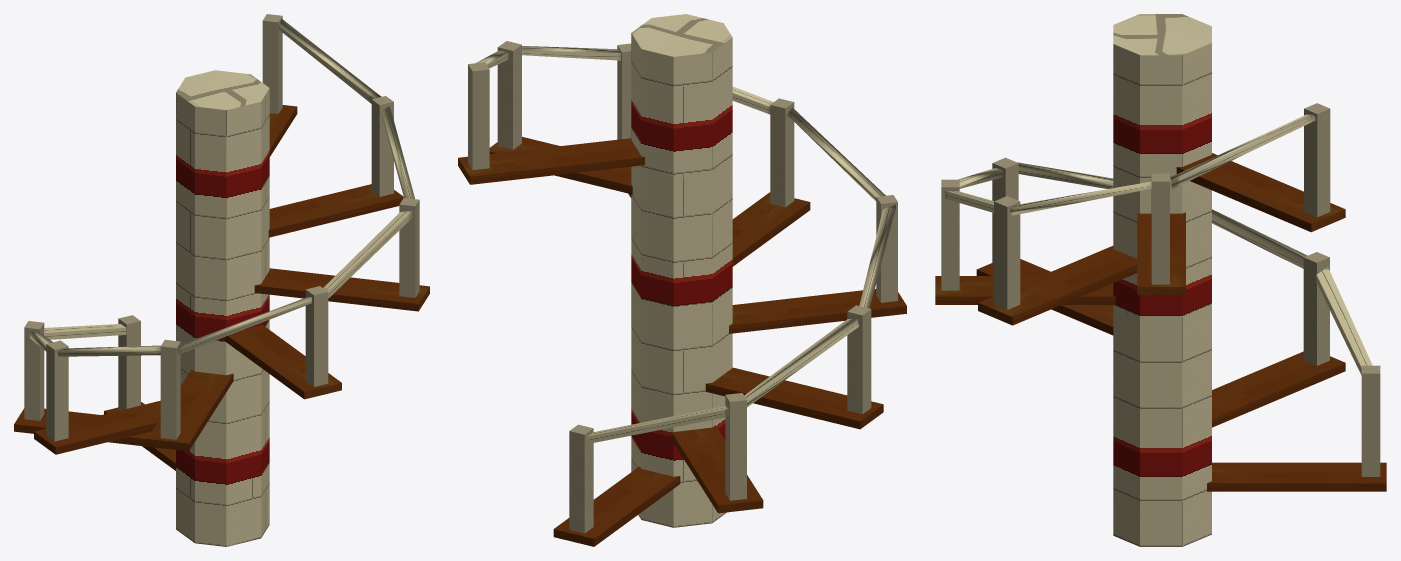
File: Theodosian_WIPStair1.glb
The picture shows the model from 3 angles, left to right: view 1: azimuth 30°, elevation 25°; view 2: azimuth 150°, elevation 25°; view 3: azimuth 270°, elevation 25°; orthographic projection. The views are drawn at different scales.
Visible parts, largest first — view 1: Cube; view 2: Cube; view 3: Cube.
Part boxes in pixels (box(x1,y1,x2,y2)): Cube: box(14, 14, 429, 546); Cube: box(458, 14, 906, 546); Cube: box(935, 14, 1386, 546).
Size of the model in its own units: 1.58 by 1.9 by 1.58.
Materials: 4 (4 with a texture image).
